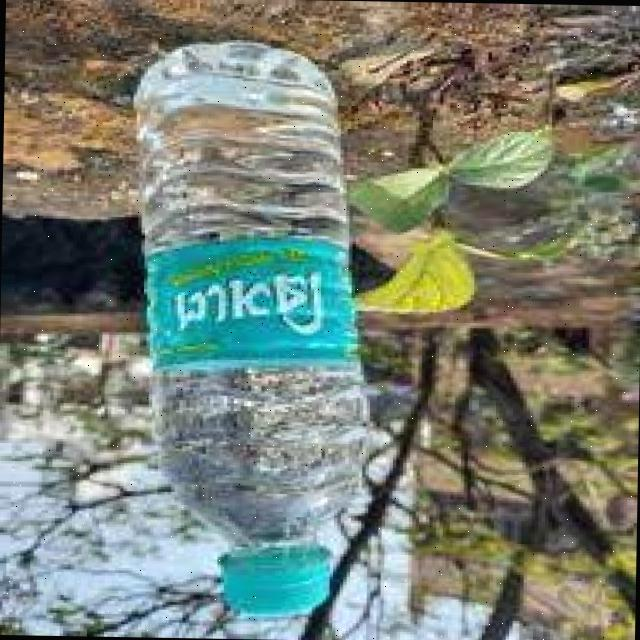bottle: (104, 7, 386, 625)
cap: (207, 541, 337, 624)
label: (130, 232, 379, 385)
